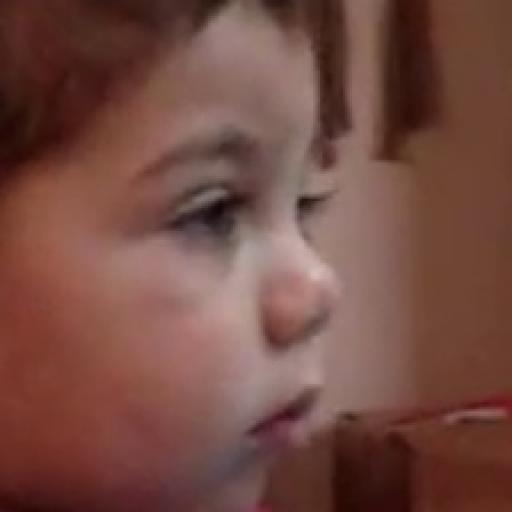Autism: (35, 0, 477, 512)
